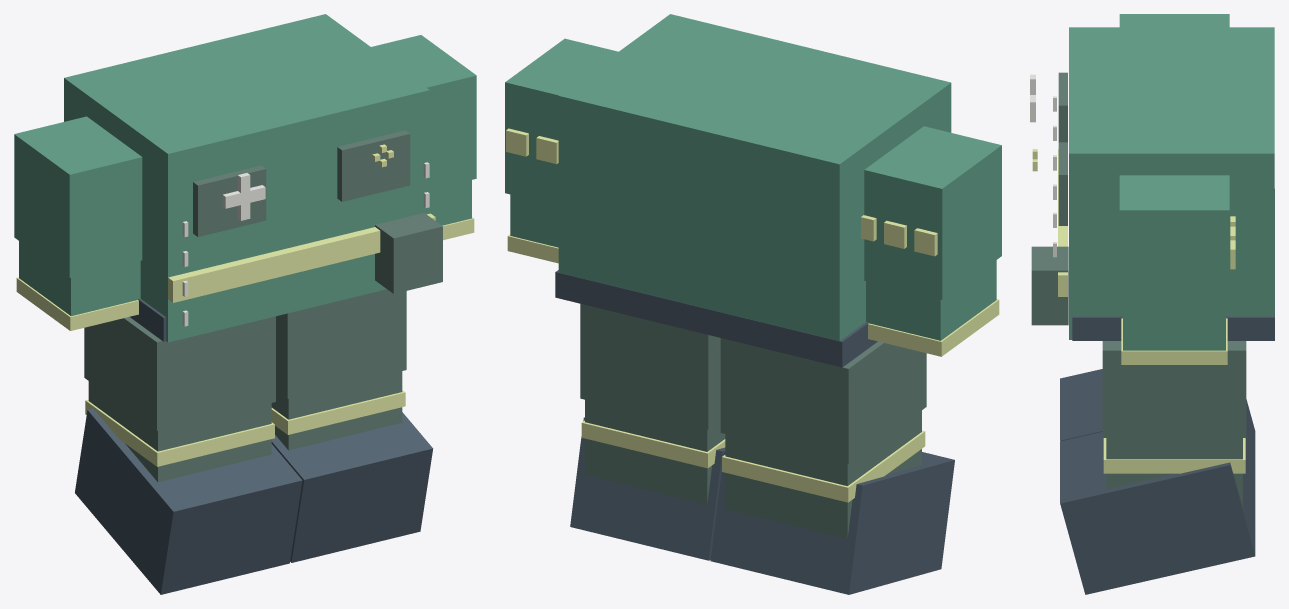
Rendered from paramedic-emerald.glb.
3 views of the same model, side by side, from view 1: azimuth 30°, elevation 25°; view 2: azimuth 150°, elevation 25°; view 3: azimuth 270°, elevation 25° (orthographic). The views are drawn at different scales.
Parts seen in each view (by area): view 1: jacket, shoe-Right, upper-sleeve-Right, trouser-Right, shoe-Left, trouser-Left, upper-sleeve-Left, lower-trouser-Right, reflective-band, lower-trouser-Left, lower-sleeve-Right, medical-pouch (+8 smaller); view 2: jacket, trouser-Right, shoe-Right, upper-sleeve-Right, trouser-Left, lower-trouser-Right, shoe-Left, medical-belt, upper-sleeve-Left, lower-trouser-Left, lower-sleeve-Right, reflective-leg-Right (+4 smaller); view 3: jacket, shoe-Left, upper-sleeve-Left, trouser-Left, lower-sleeve-Left, lower-trouser-Left, shoe-Right, medical-pouch, medical-belt, reflective-leg-Left, cuff-Left, upper-sleeve-Right (+3 smaller).
Boxes of the visible parts, <box> form: jacket: <box>64,14,429,342</box>; shoe-Right: <box>75,408,302,594</box>; upper-sleeve-Right: <box>14,116,142,277</box>; trouser-Right: <box>84,316,275,430</box>; shoe-Left: <box>271,412,433,562</box>; trouser-Left: <box>276,289,406,398</box>; upper-sleeve-Left: <box>371,35,476,189</box>; lower-trouser-Right: <box>88,381,271,482</box>; reflective-band: <box>168,213,435,302</box>; lower-trouser-Left: <box>271,371,402,450</box>; lower-sleeve-Right: <box>19,241,140,316</box>; medical-pouch: <box>375,213,442,293</box>; jacket: <box>558,14,951,340</box>; trouser-Right: <box>720,338,926,463</box>; shoe-Right: <box>710,451,954,594</box>; upper-sleeve-Right: <box>864,126,1001,299</box>; trouser-Left: <box>580,304,720,429</box>; lower-trouser-Right: <box>725,410,921,538</box>; shoe-Left: <box>570,417,725,560</box>; medical-belt: <box>555,270,877,367</box>; upper-sleeve-Left: <box>505,38,618,205</box>; lower-trouser-Left: <box>585,400,725,504</box>; lower-sleeve-Right: <box>866,260,996,340</box>; reflective-leg-Right: <box>722,430,925,502</box>; jacket: <box>1069,27,1274,339</box>; shoe-Left: <box>1060,432,1255,594</box>; upper-sleeve-Left: <box>1119,175,1229,312</box>; trouser-Left: <box>1102,341,1246,437</box>; lower-sleeve-Left: <box>1123,312,1225,350</box>; lower-trouser-Left: <box>1106,438,1242,506</box>; shoe-Right: <box>1060,369,1255,492</box>; medical-pouch: <box>1031,246,1068,325</box>; medical-belt: <box>1072,189,1274,340</box>; reflective-leg-Left: <box>1103,438,1245,473</box>; cuff-Left: <box>1121,318,1227,364</box>; upper-sleeve-Right: <box>1119,14,1229,27</box>.
Size of the model in its own units: 1.07 by 1.13 by 0.566.
